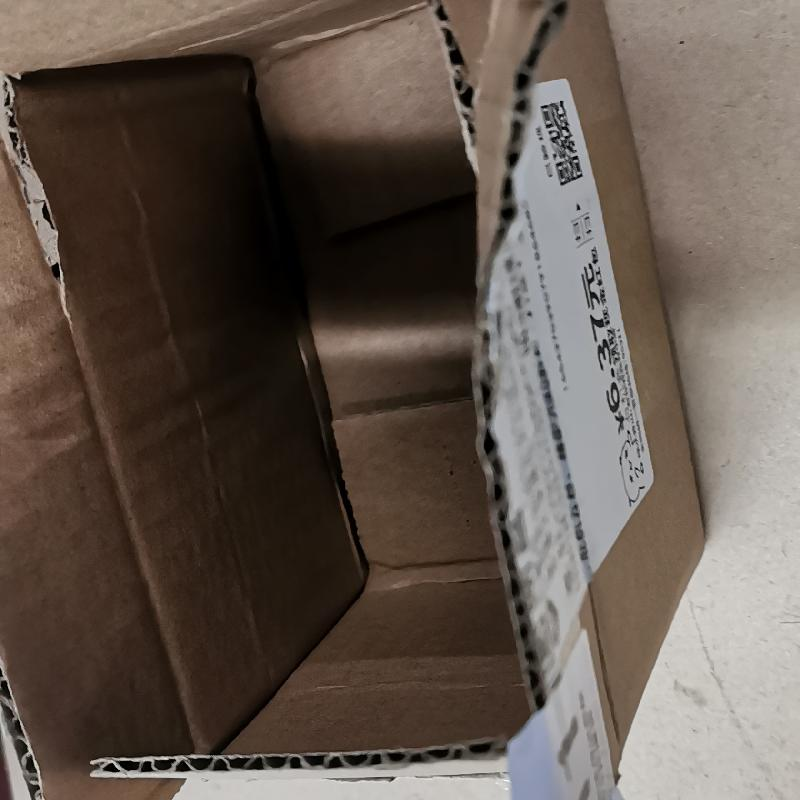boxes: (0, 18, 737, 800)
